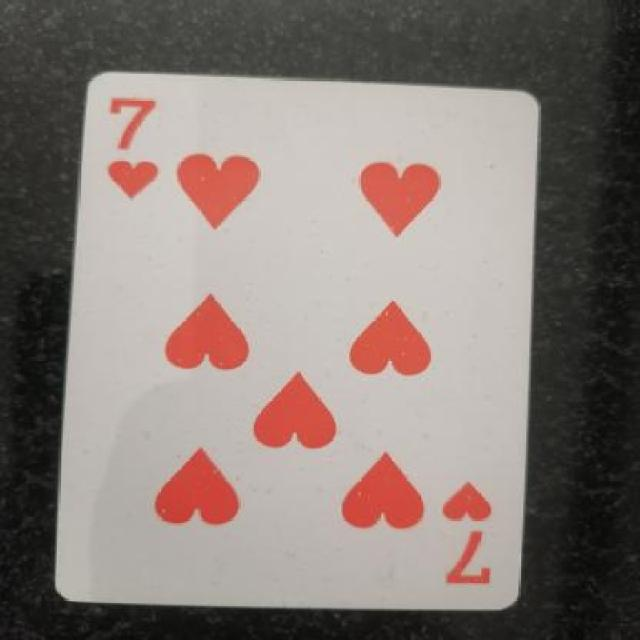7H: (90, 90, 188, 212), (444, 468, 518, 604)
